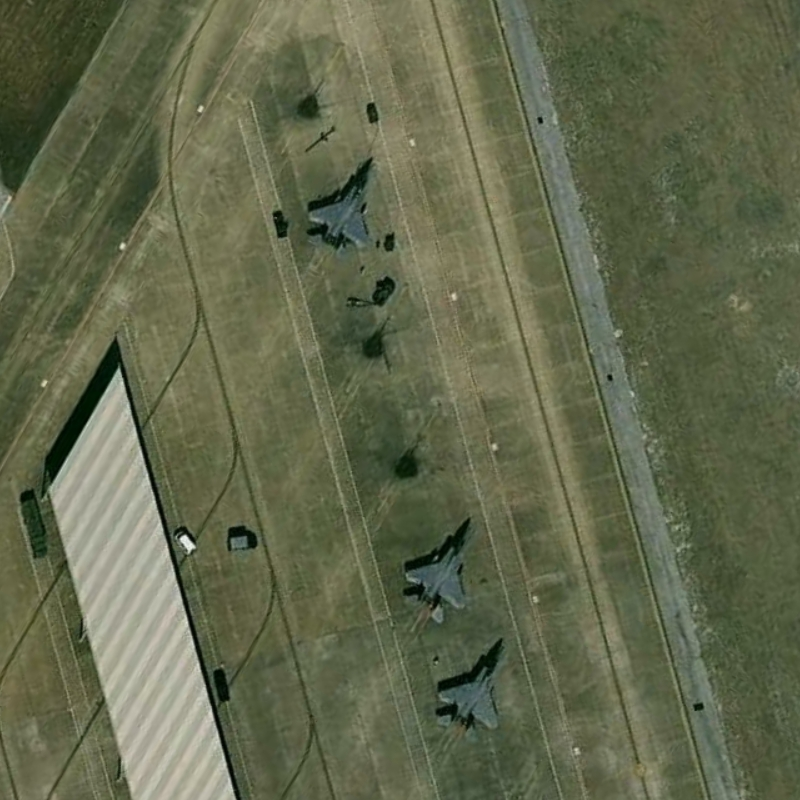A13: (396, 514, 487, 624), (293, 155, 386, 261), (427, 638, 515, 747)
